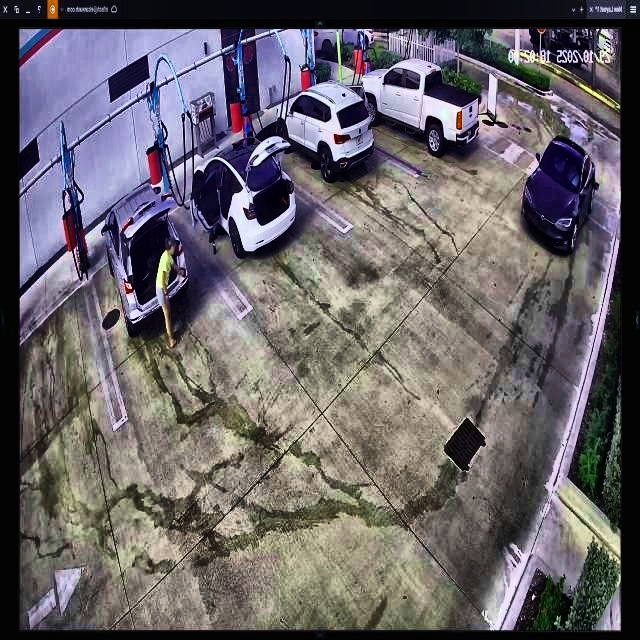Car: (193, 135, 298, 263), (104, 179, 188, 335), (360, 57, 478, 155), (277, 80, 372, 178)
